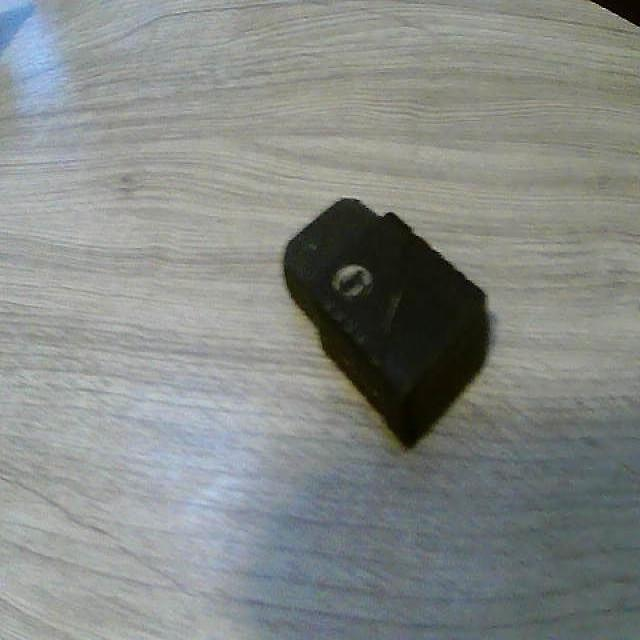borracha: (261, 188, 525, 456)
